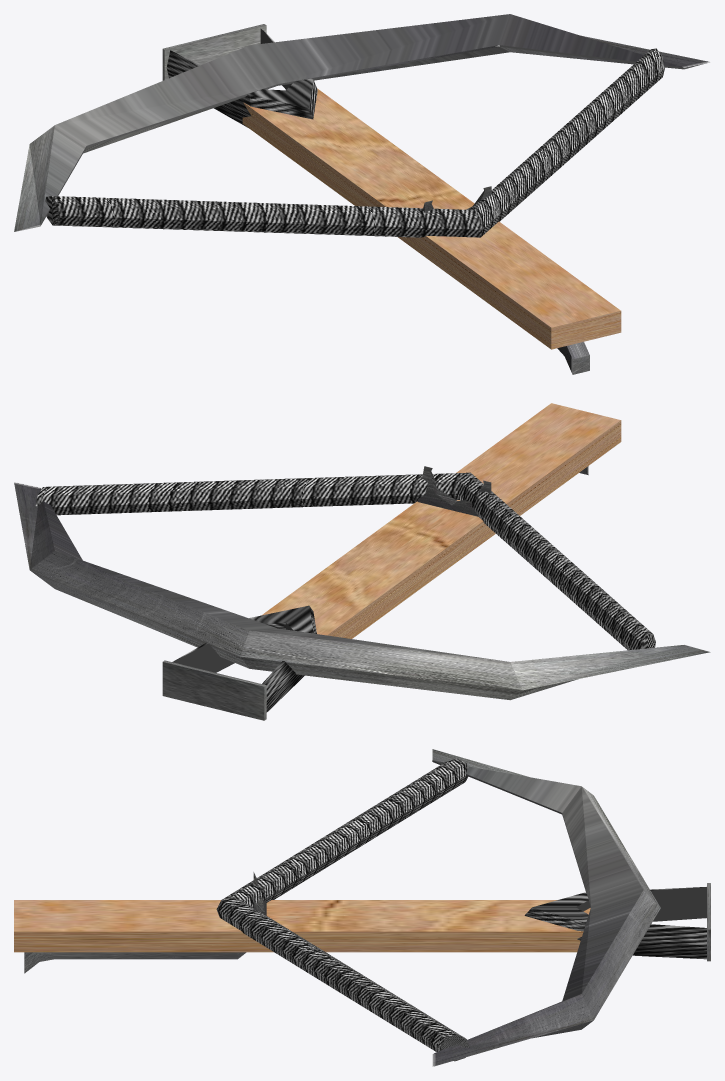
Rendered from Crossbow31.obj.
The picture shows the model from 3 angles, top to bottom: view 1: azimuth 30°, elevation 25°; view 2: azimuth 150°, elevation 25°; view 3: azimuth 270°, elevation 25°; orthographic projection. The views are drawn at different scales.
Parts seen in each view (by area): view 1: Sphere; view 2: Sphere; view 3: Sphere.
Part boxes in pixels (bbox=[...]): Sphere: bbox=[14, 14, 710, 374]; Sphere: bbox=[14, 403, 710, 720]; Sphere: bbox=[14, 749, 710, 1066].
Size of the model in its own units: 5.04 by 0.6142 by 4.67.
